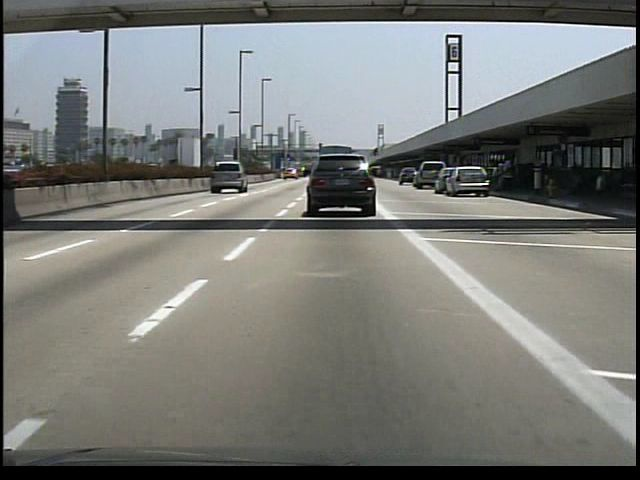person: (499, 153, 521, 193), (489, 158, 504, 192)
